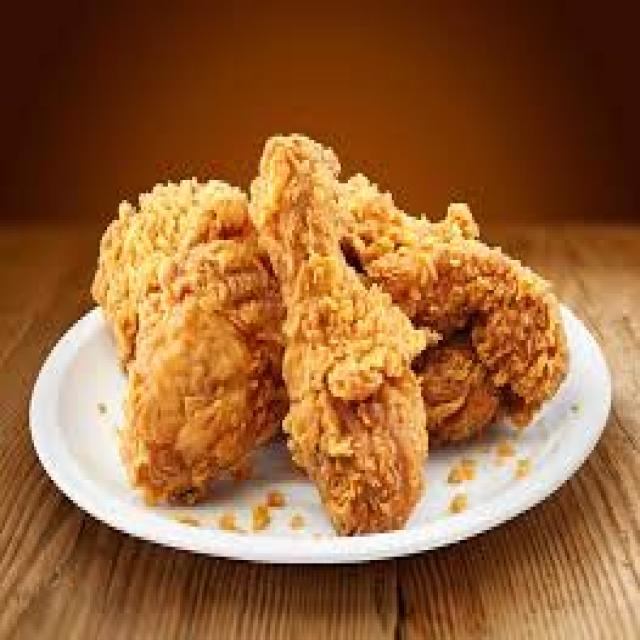Frango: (116, 178, 288, 462), (278, 168, 403, 529), (369, 192, 542, 426)
